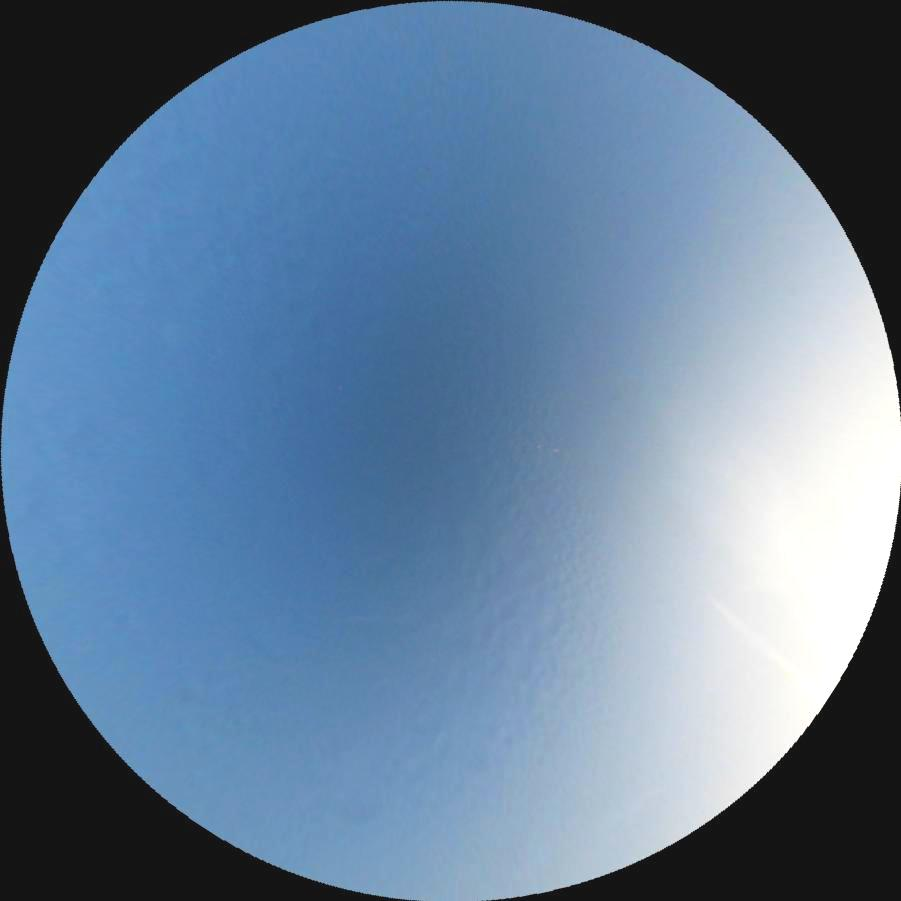contrail veryold: (707, 590, 829, 708)
